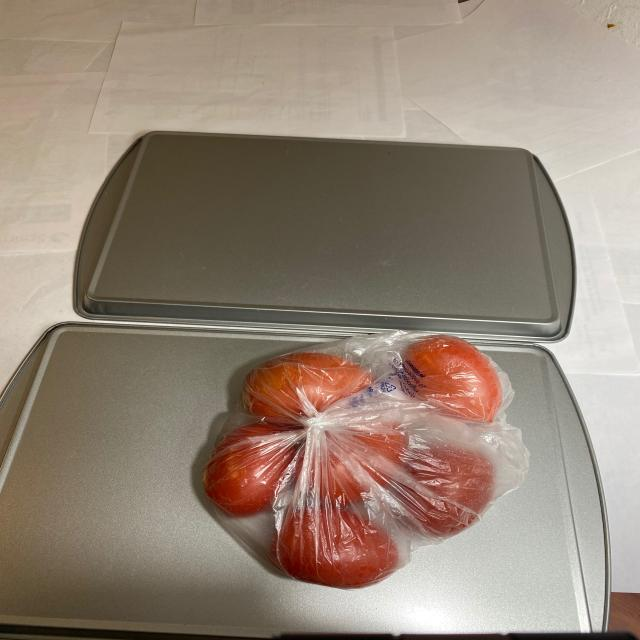tomato: (212, 330, 502, 588)
